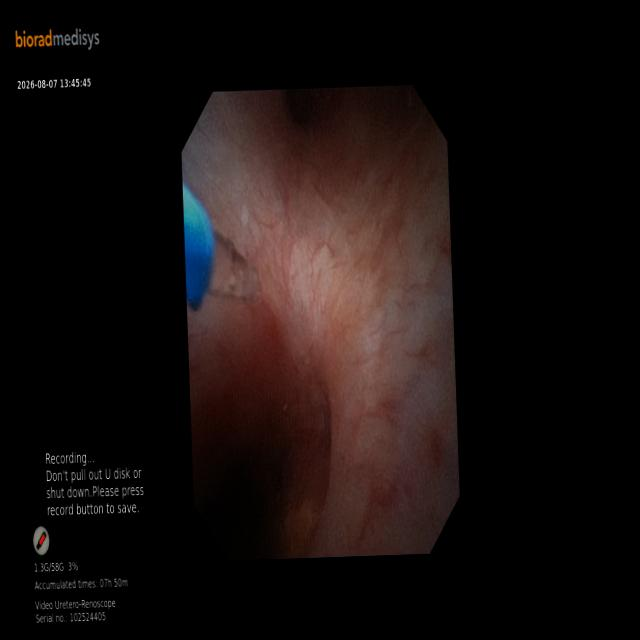laser-fibre: (207, 232, 258, 298)
